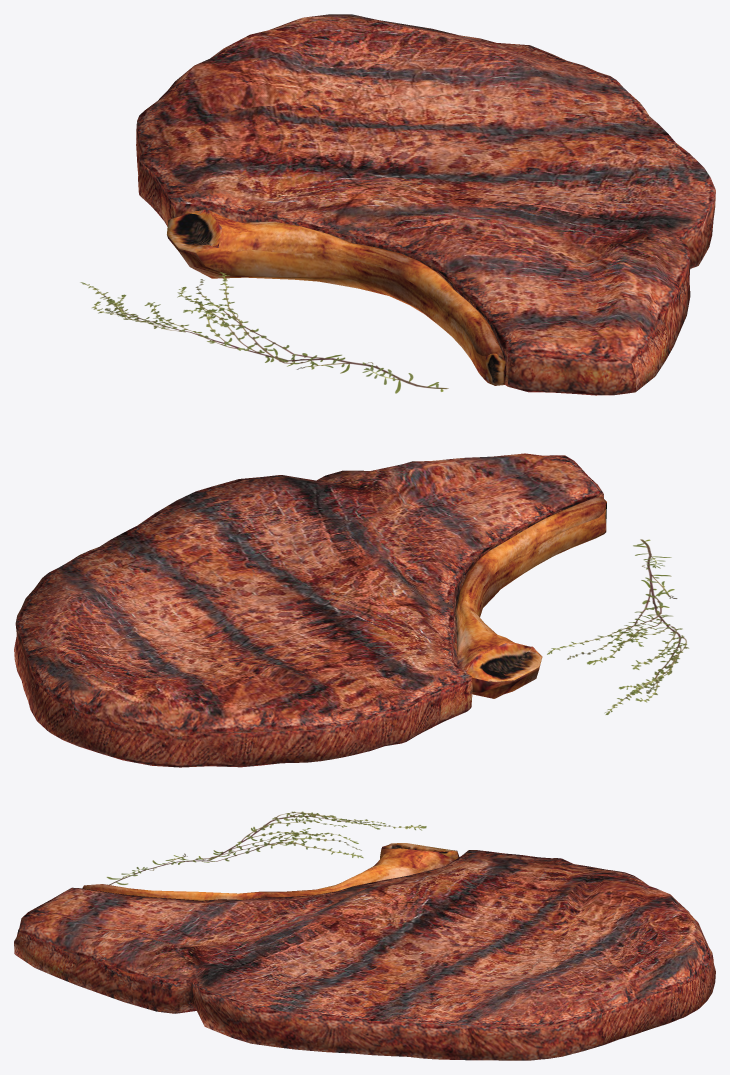
Rendered from beef.glb.
3 views of the same model, one above another, from view 1: azimuth 30°, elevation 25°; view 2: azimuth 150°, elevation 25°; view 3: azimuth 270°, elevation 25° (orthographic). The views are drawn at different scales.
Visible parts, largest first — view 1: meat_LP_UV_pCube10, pPlane1; view 2: meat_LP_UV_pCube10, pPlane1; view 3: meat_LP_UV_pCube10, pPlane1.
Boxes of the visible parts, bbox=[...] form: meat_LP_UV_pCube10: bbox=[136, 14, 715, 395]; pPlane1: bbox=[80, 272, 448, 393]; meat_LP_UV_pCube10: bbox=[14, 453, 606, 767]; pPlane1: bbox=[547, 539, 688, 714]; meat_LP_UV_pCube10: bbox=[14, 843, 715, 1060]; pPlane1: bbox=[106, 811, 426, 884].
Size of what is drawn, in the model's own units: 17.5 by 1.87 by 19.68.
3 materials, 3 textured.
